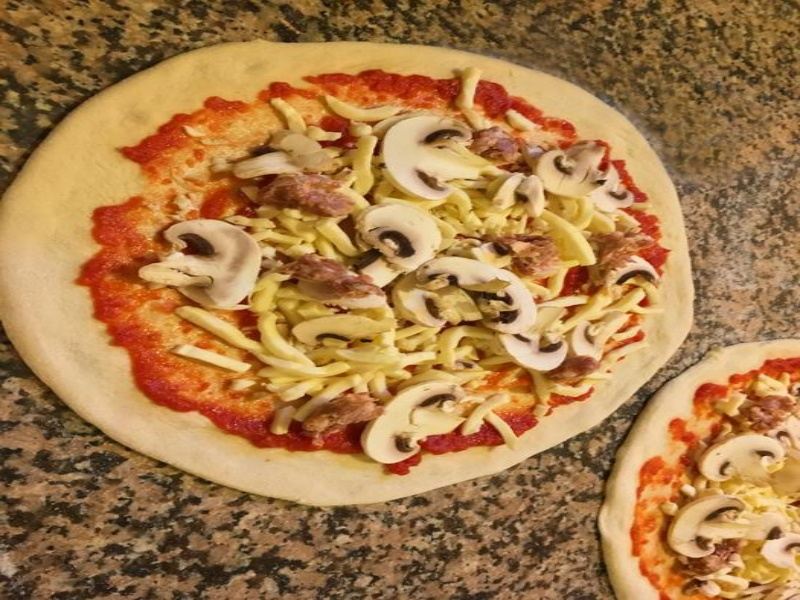champignon: (151, 213, 266, 311), (375, 110, 493, 202), (359, 370, 464, 470), (349, 199, 458, 279), (668, 496, 769, 563), (692, 427, 780, 487), (535, 138, 603, 201)
